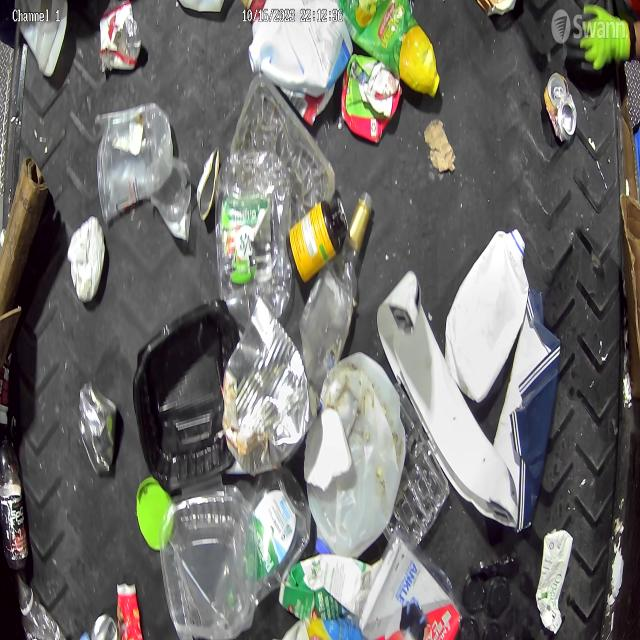can: (222, 296, 311, 474), (77, 378, 117, 475), (101, 0, 143, 74), (542, 72, 577, 142), (196, 146, 220, 221), (90, 611, 122, 639)
milk_jug: (306, 353, 406, 554), (444, 227, 530, 404)
non_white_jug: (338, 0, 440, 99), (248, 0, 352, 97), (279, 555, 371, 621)
plastic_bottle: (160, 483, 256, 640), (216, 151, 294, 327), (93, 101, 174, 222), (1, 426, 28, 568), (18, 576, 63, 640)
